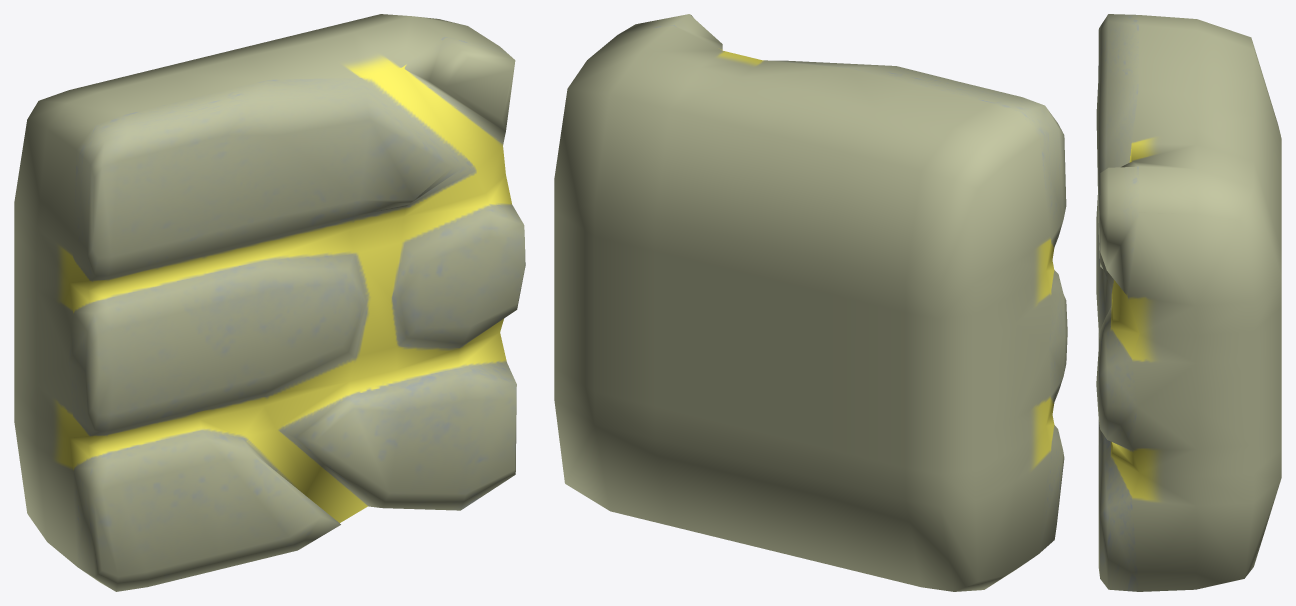
Rendered from GDW_1_Y2 - Wall Tile.obj.
3 views of the same model, side by side, from view 1: azimuth 30°, elevation 25°; view 2: azimuth 150°, elevation 25°; view 3: azimuth 270°, elevation 25° (orthographic). The views are drawn at different scales.
Visible parts, largest first — view 1: Wall_Tile_Cube.003; view 2: Wall_Tile_Cube.003; view 3: Wall_Tile_Cube.003.
Boxes of the visible parts, bbox=[...] form: Wall_Tile_Cube.003: bbox=[14, 14, 525, 591]; Wall_Tile_Cube.003: bbox=[554, 14, 1067, 591]; Wall_Tile_Cube.003: bbox=[1096, 14, 1281, 591].
Bounding box in the file's own units: 0.4983 × 0.5 × 0.1992.
1 material, 1 textured.
